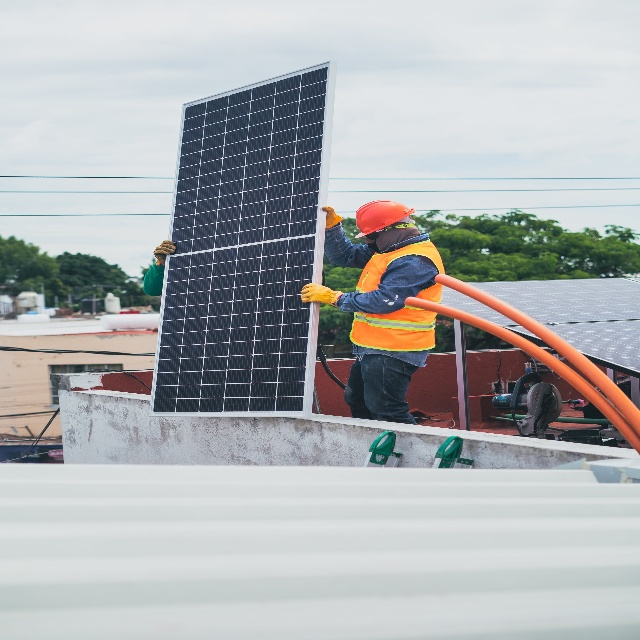Gafas: (366, 230, 379, 240)
Guantes: (300, 281, 337, 311), (155, 240, 179, 265), (322, 205, 341, 230)
